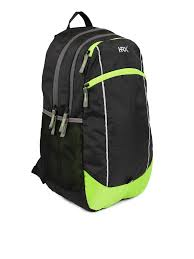backpack: (31, 10, 153, 212)
